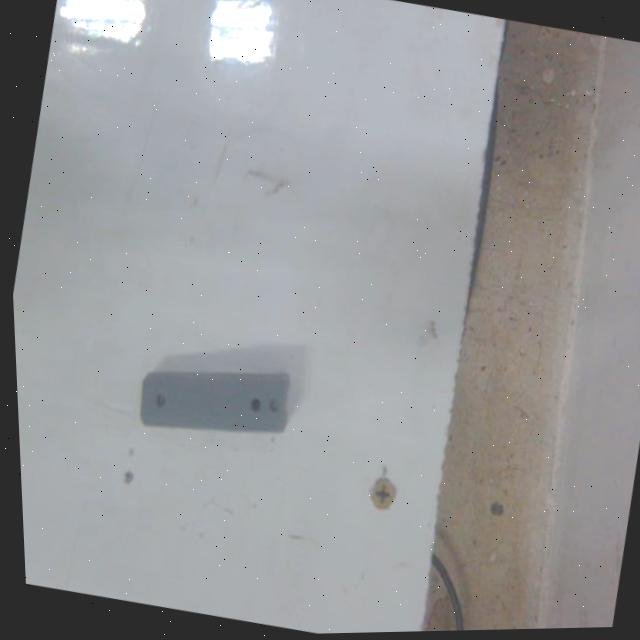grey: (130, 339, 300, 455)
head: (150, 387, 171, 413)
